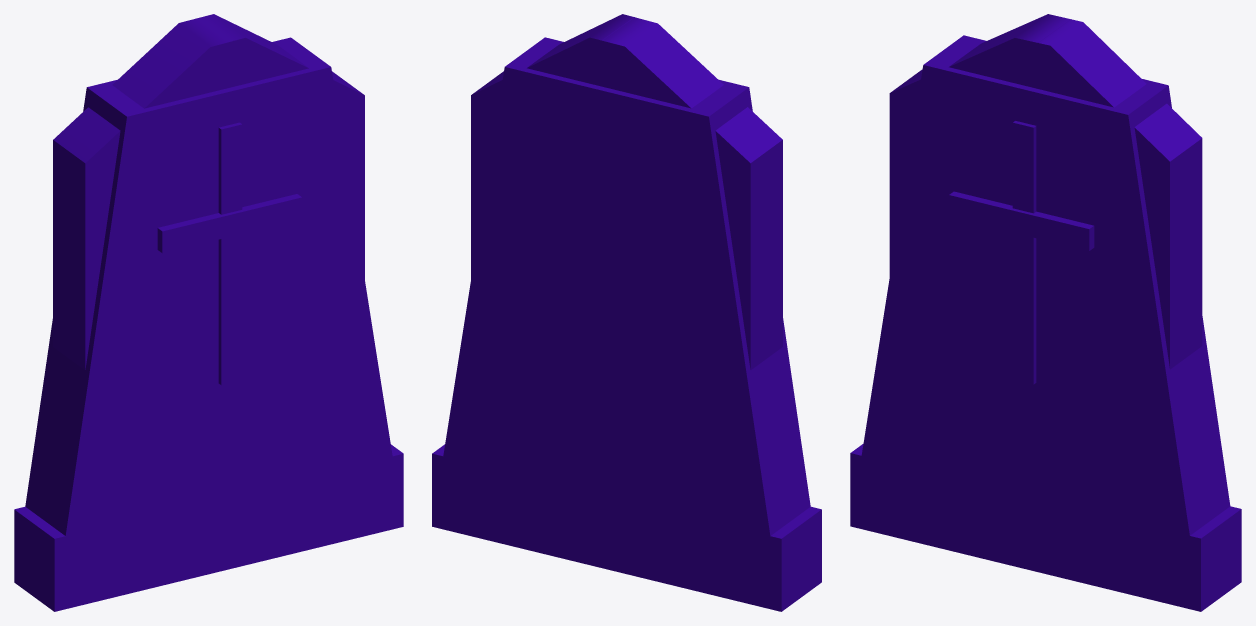
File: gravestone01.fbx
3 renders of one model, left to right at view 1: azimuth 30°, elevation 25°; view 2: azimuth 150°, elevation 25°; view 3: azimuth 330°, elevation 25°, orthographic.
Parts seen in each view (by area): view 1: lp_gravestone01, hp_graveston01, mp_gravestone01; view 2: lp_gravestone01, hp_graveston01, mp_gravestone01; view 3: lp_gravestone01, hp_graveston01, mp_gravestone01.
Part boxes in pixels (left/top/right/bottom): lp_gravestone01: left=25, top=37, right=403, bottom=611; hp_graveston01: left=14, top=14, right=403, bottom=611; mp_gravestone01: left=85, top=17, right=364, bottom=361; lp_gravestone01: left=432, top=37, right=810, bottom=611; hp_graveston01: left=432, top=14, right=821, bottom=611; mp_gravestone01: left=471, top=17, right=750, bottom=364; lp_gravestone01: left=850, top=35, right=1230, bottom=611; hp_graveston01: left=850, top=14, right=1241, bottom=611; mp_gravestone01: left=889, top=19, right=1169, bottom=357.
Bounding box in the file's own units: 50 × 71.63 × 11.2.
